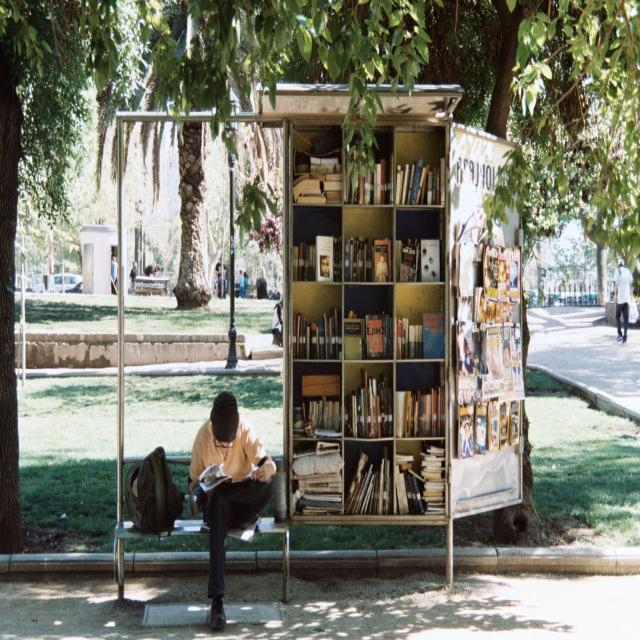adult: (185, 393, 274, 640)
